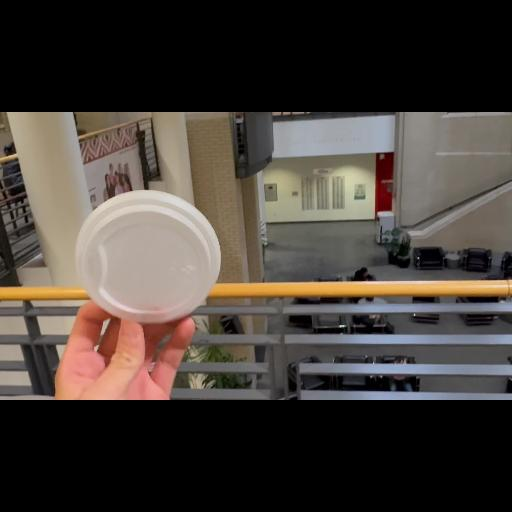lp_cup_lids: (68, 188, 230, 322)
